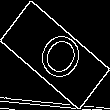O_SW: (25, 22, 85, 88)
